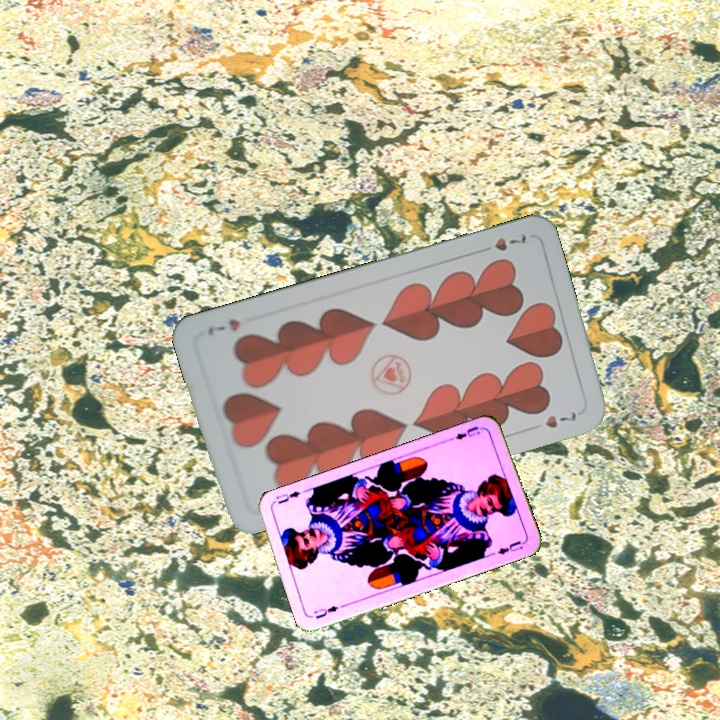EU: (446, 422, 486, 443), (310, 601, 341, 622)
H7: (474, 229, 531, 256)
